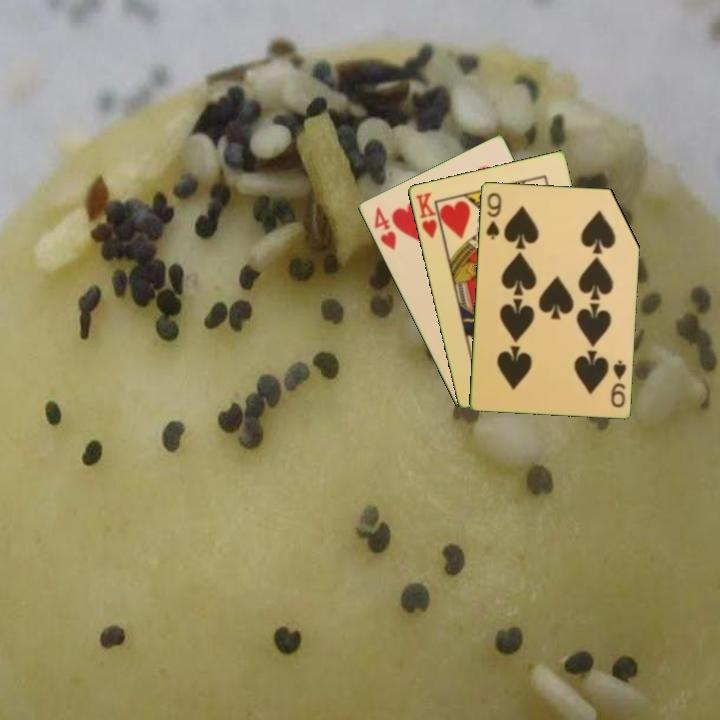4h: (370, 203, 399, 253)
9s: (482, 189, 504, 242), (607, 357, 629, 410)
Kh: (412, 189, 445, 242)
